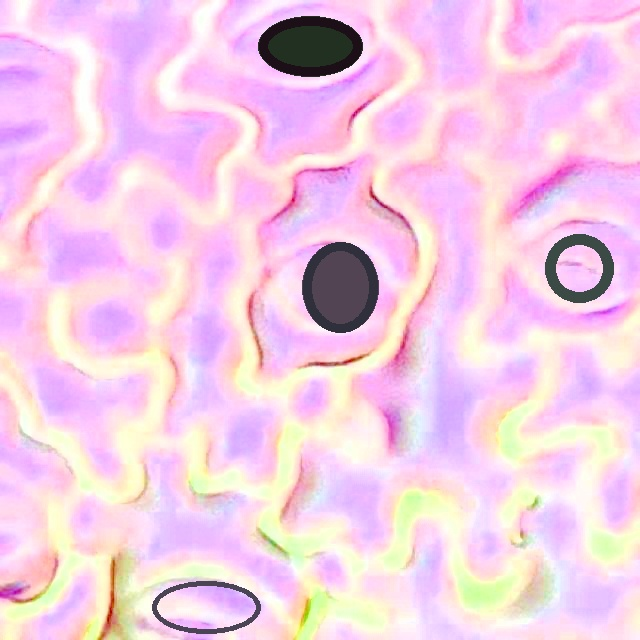close: (301, 242, 378, 332)
open: (258, 17, 362, 76), (151, 580, 261, 634), (545, 234, 613, 302)
